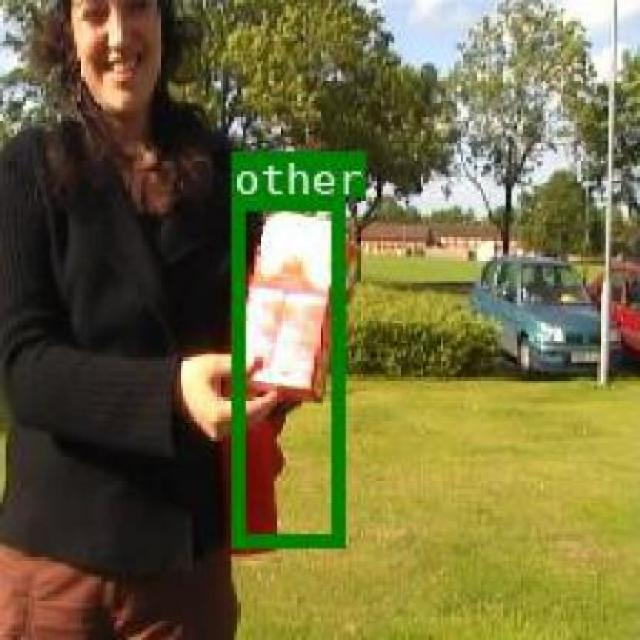other: (228, 197, 342, 545)
